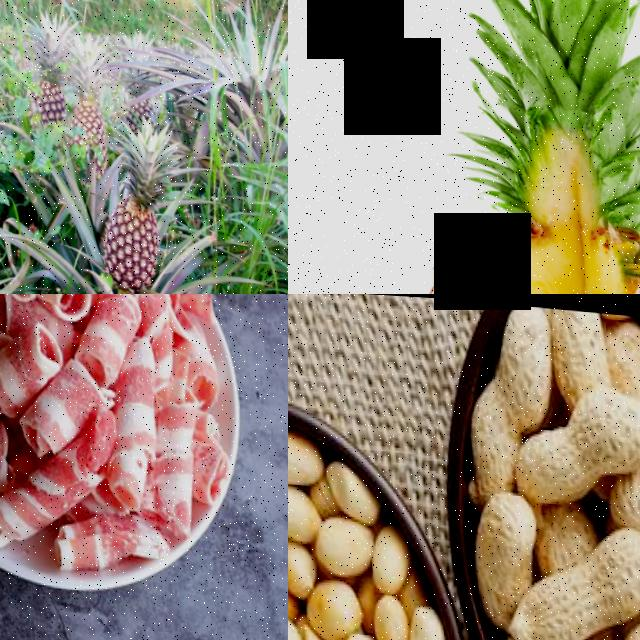peanuts: (544, 511, 640, 638), (538, 375, 640, 477), (484, 297, 559, 420), (459, 481, 536, 589)
pineapple: (408, 31, 640, 294), (90, 168, 160, 279), (65, 71, 103, 140), (28, 54, 63, 115), (118, 68, 152, 122)
pork belly: (87, 330, 202, 538), (0, 392, 110, 558)
